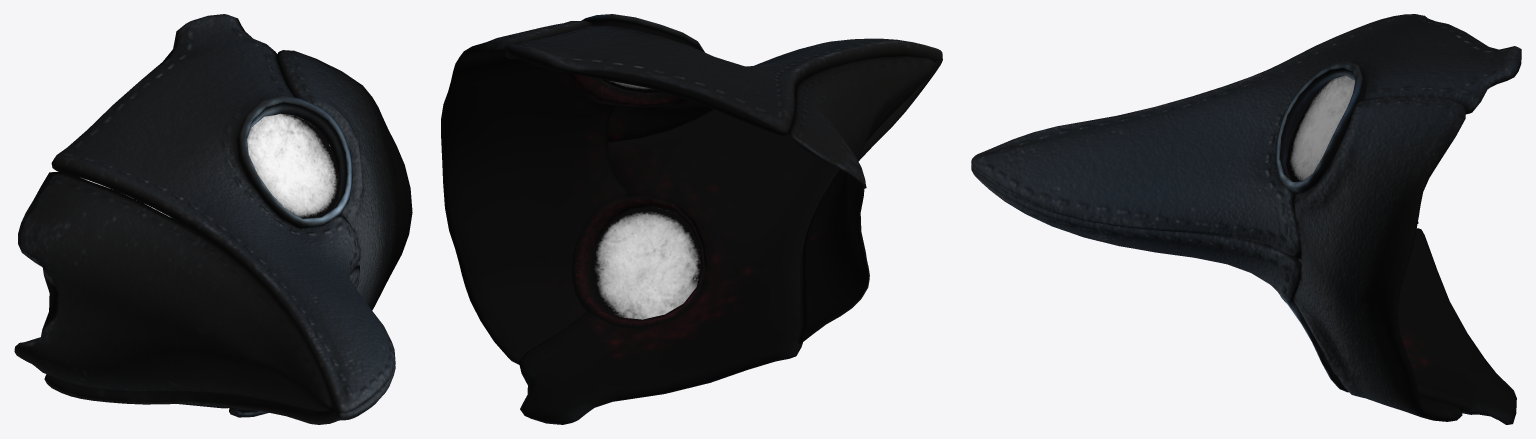
Rendered from PlagueMask.fbx.
3 views of the same model, side by side, from view 1: azimuth 30°, elevation 25°; view 2: azimuth 150°, elevation 25°; view 3: azimuth 270°, elevation 25° (orthographic). The views are drawn at different scales.
Visible parts, largest first — view 1: Dylan_Mask; view 2: Dylan_Mask; view 3: Dylan_Mask.
Part boxes in pixels (left/top/right/bottom): Dylan_Mask: left=14, top=14, right=412, bottom=424; Dylan_Mask: left=441, top=14, right=942, bottom=424; Dylan_Mask: left=971, top=14, right=1521, bottom=424.
Bounding box in the file's own units: 0.1415 × 0.121 × 0.1636.
